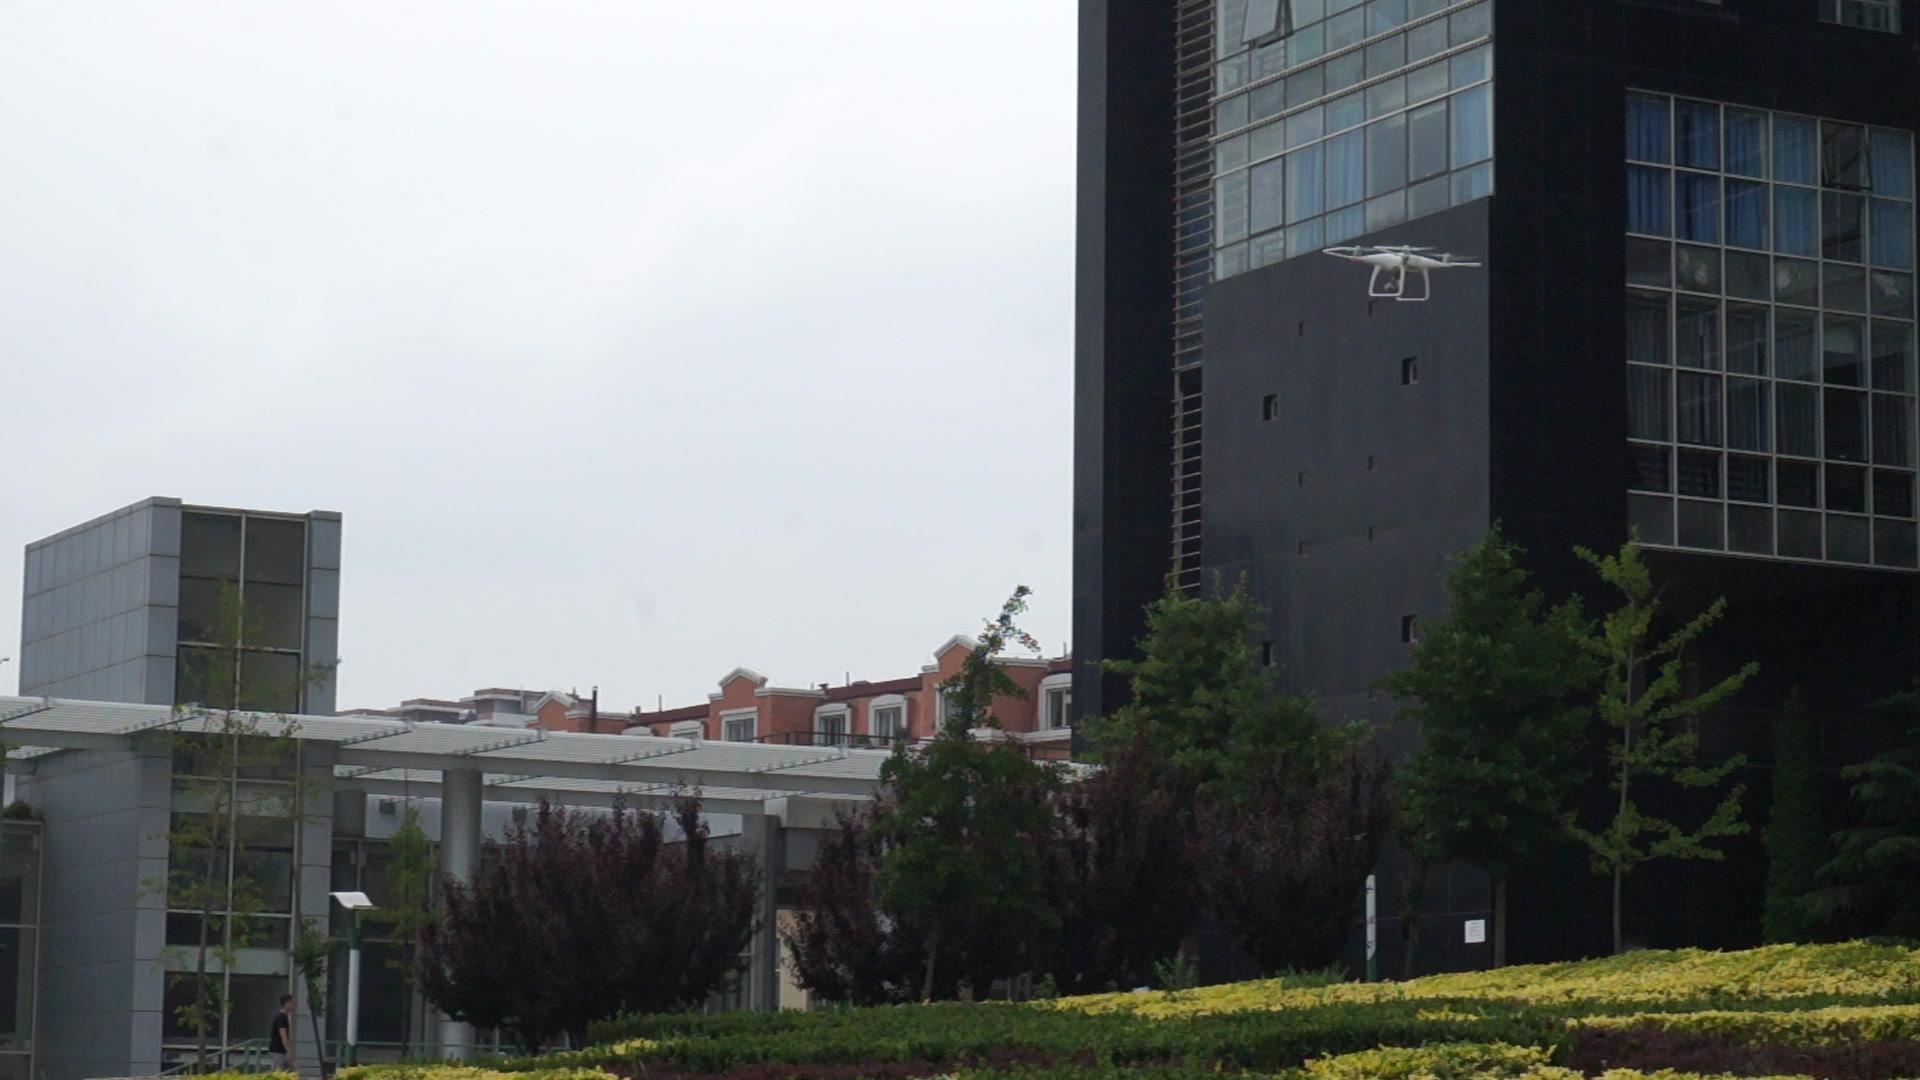UAV: (1323, 245, 1484, 303)
